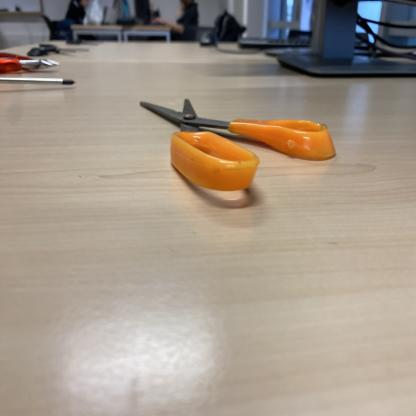scissors: (137, 96, 340, 193), (28, 40, 94, 62)
